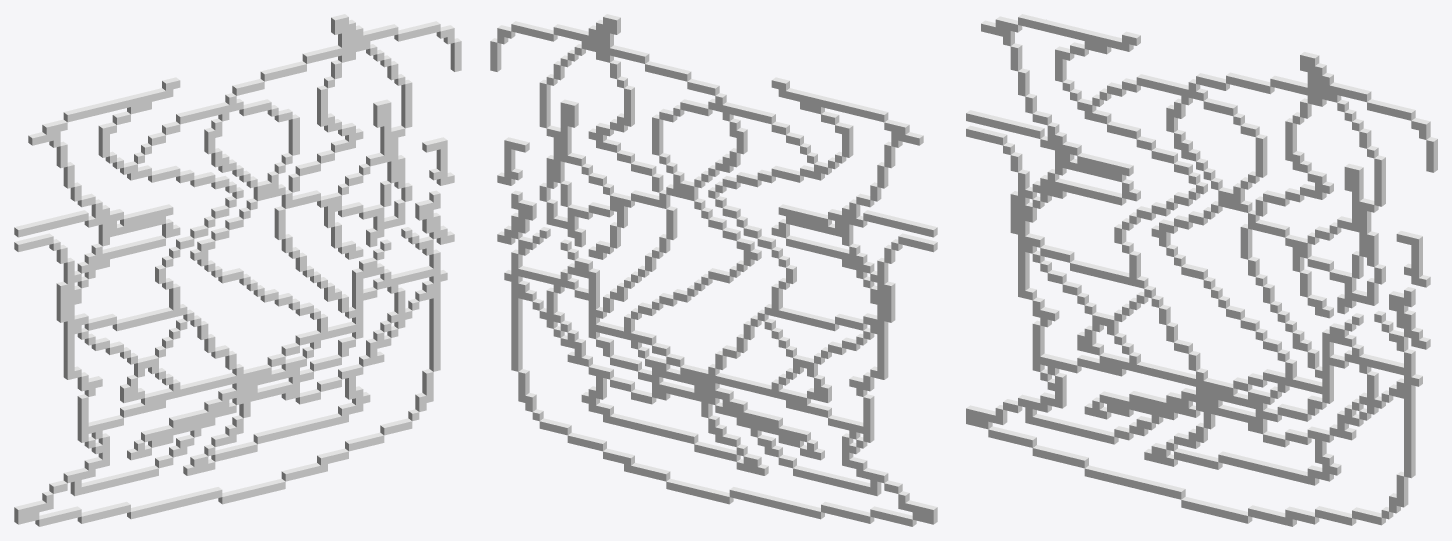
The model's file is animaTestVox.obj.
3 renders of one model, left to right at view 1: azimuth 30°, elevation 25°; view 2: azimuth 150°, elevation 25°; view 3: azimuth 330°, elevation 25°, orthographic. The views are drawn at different scales.
Visible parts, largest first — view 1: animaTestVox; view 2: animaTestVox; view 3: animaTestVox.
Boxes of the visible parts, bbox=[...] form: animaTestVox: bbox=[14, 14, 461, 526]; animaTestVox: bbox=[490, 14, 937, 526]; animaTestVox: bbox=[966, 14, 1437, 526].
Size of the model in its own units: 63 by 62 by 1.
1 material, 1 textured.
